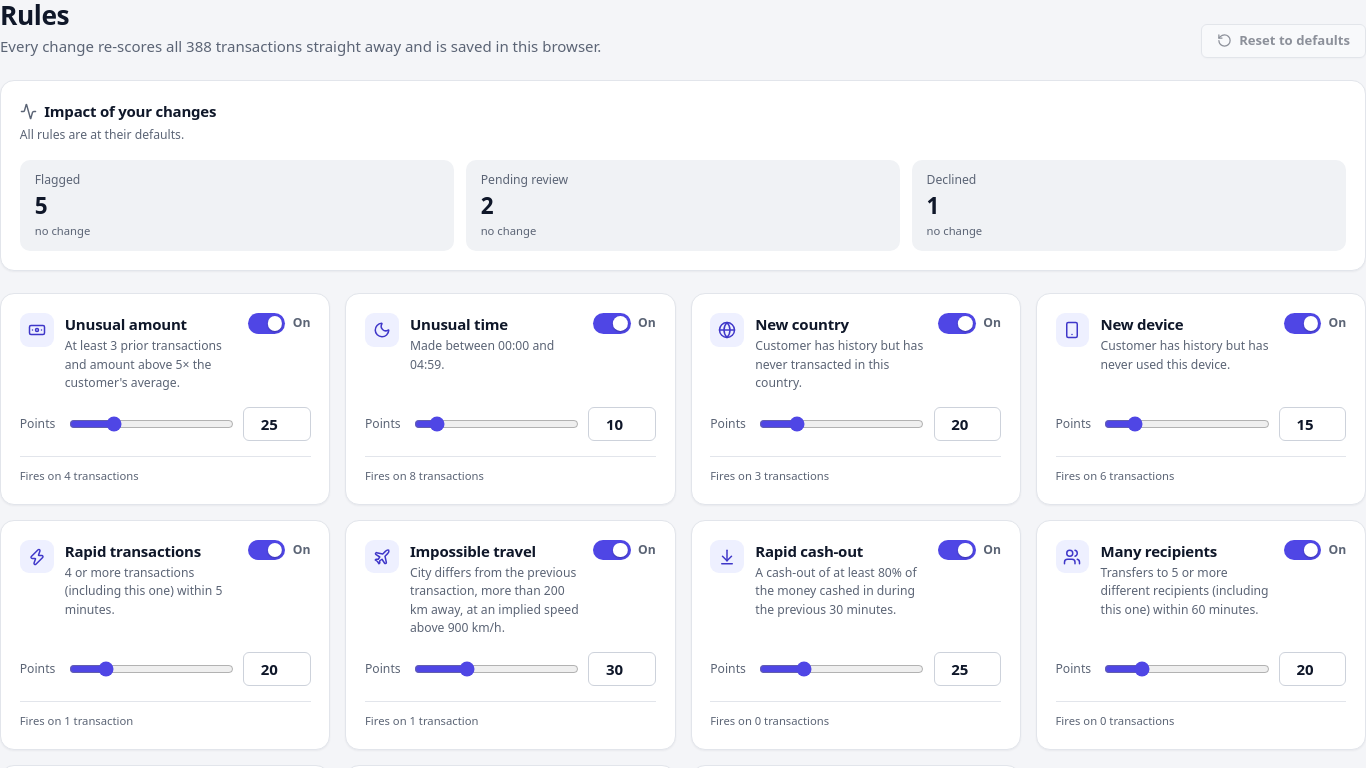
Test: Rules page › typing points re-scores; blanks are ignored and out-of-range values are clamped
The width and height of the screenshot is (1366, 768).
Clear the number field labelled "Points" below "Made between 00:00 and 04:59" at point(622, 424), box [588, 407, 656, 441]
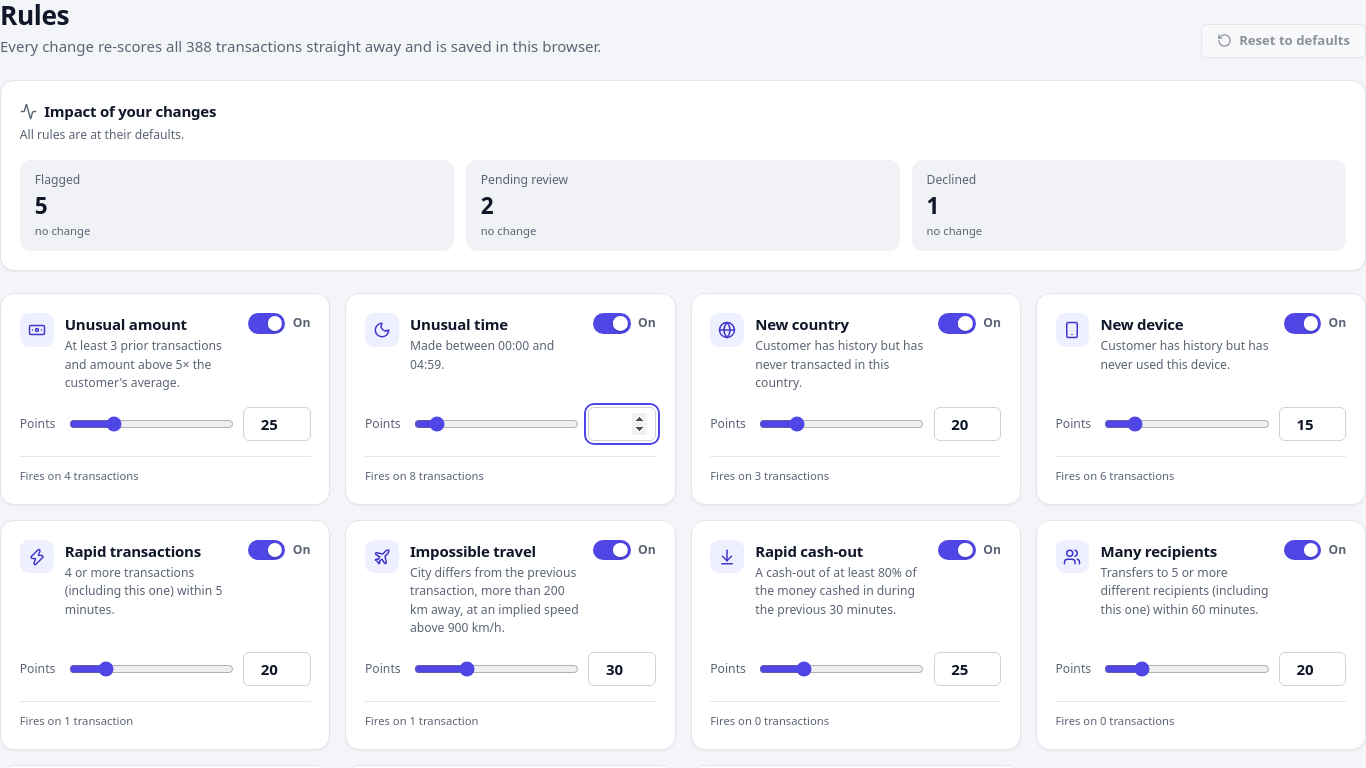
Type "40" into the number field labelled "Points" below "Made between 00:00 and 04:59" at point(622, 424), box [588, 407, 656, 441]
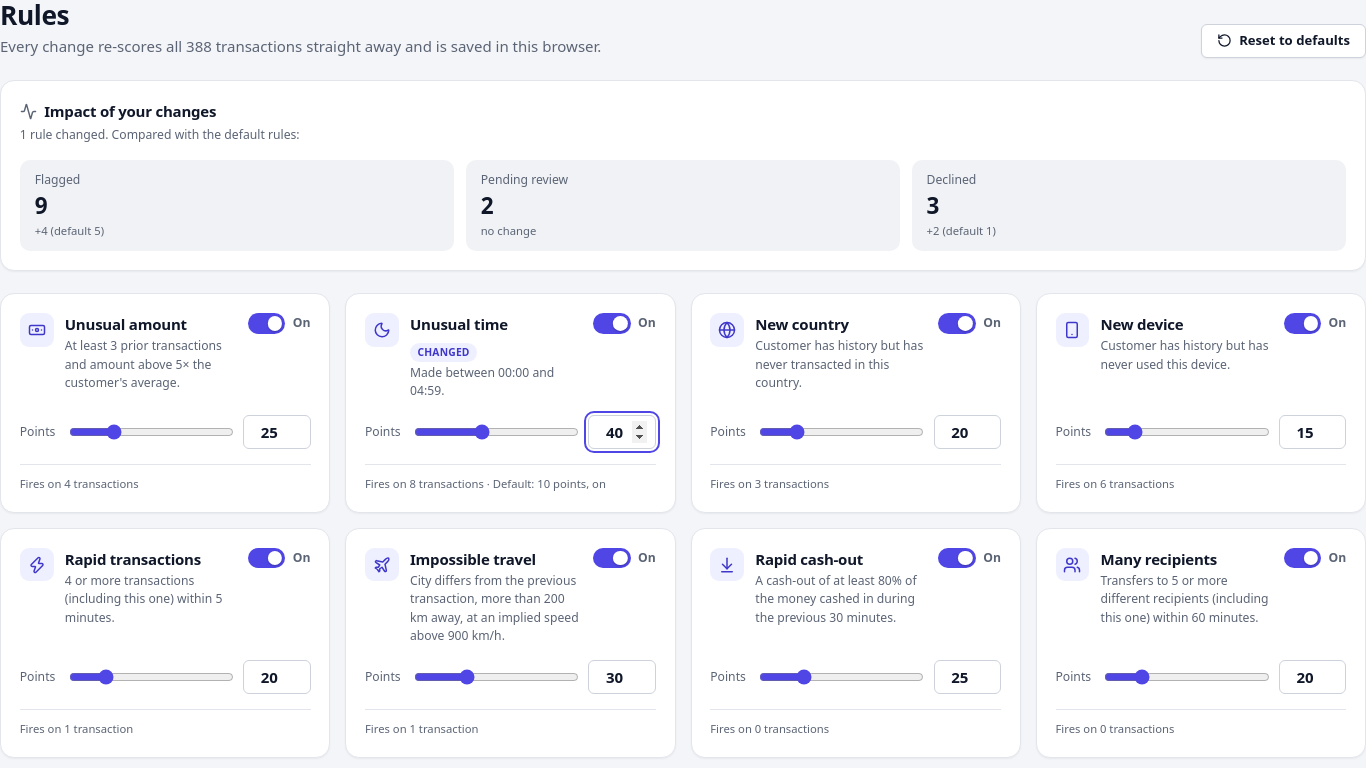
Check: the text "Fires on 8 transactions · Default: 10 points, on" is shown, box [365, 464, 656, 493]
Replace the text in the number field labelled "Points" below "Made between 00:00 and 04:59" with "150" at point(622, 432), box [588, 415, 656, 449]
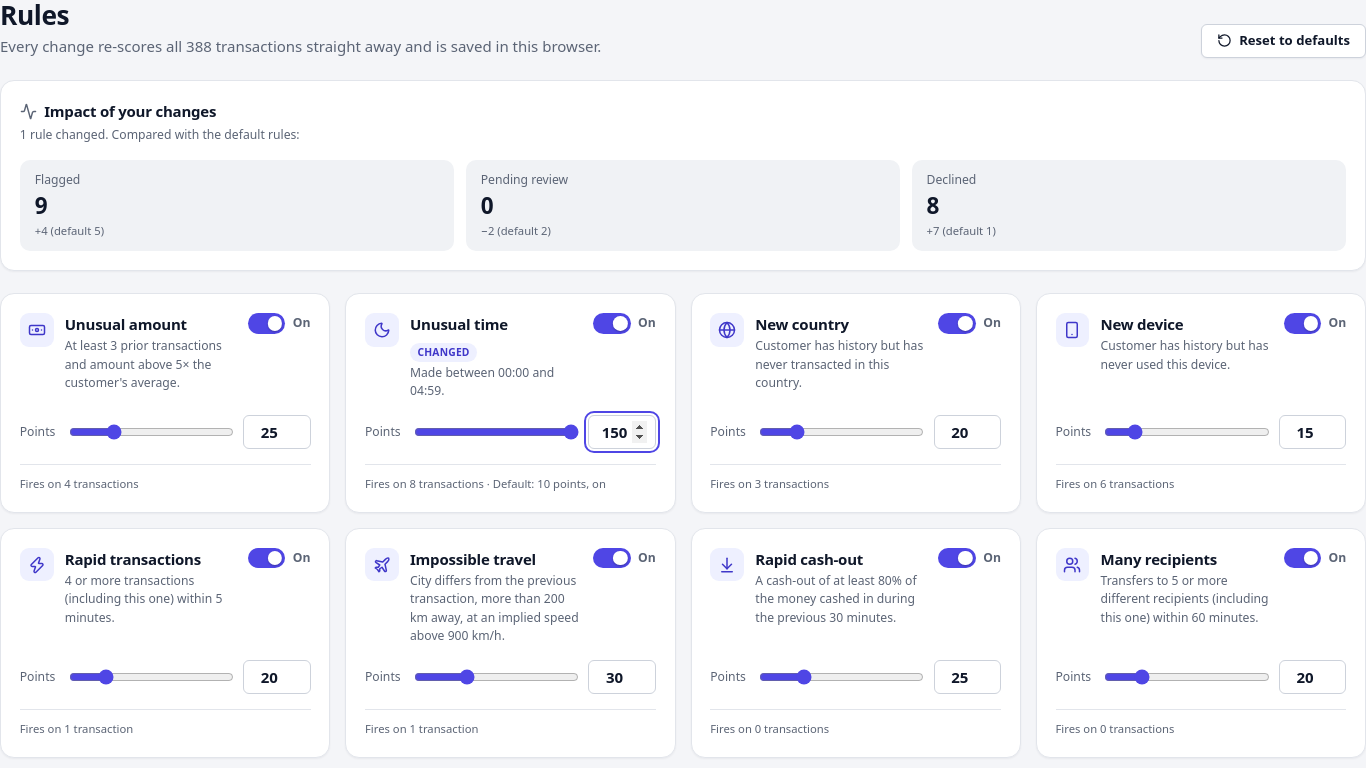
Press Tab
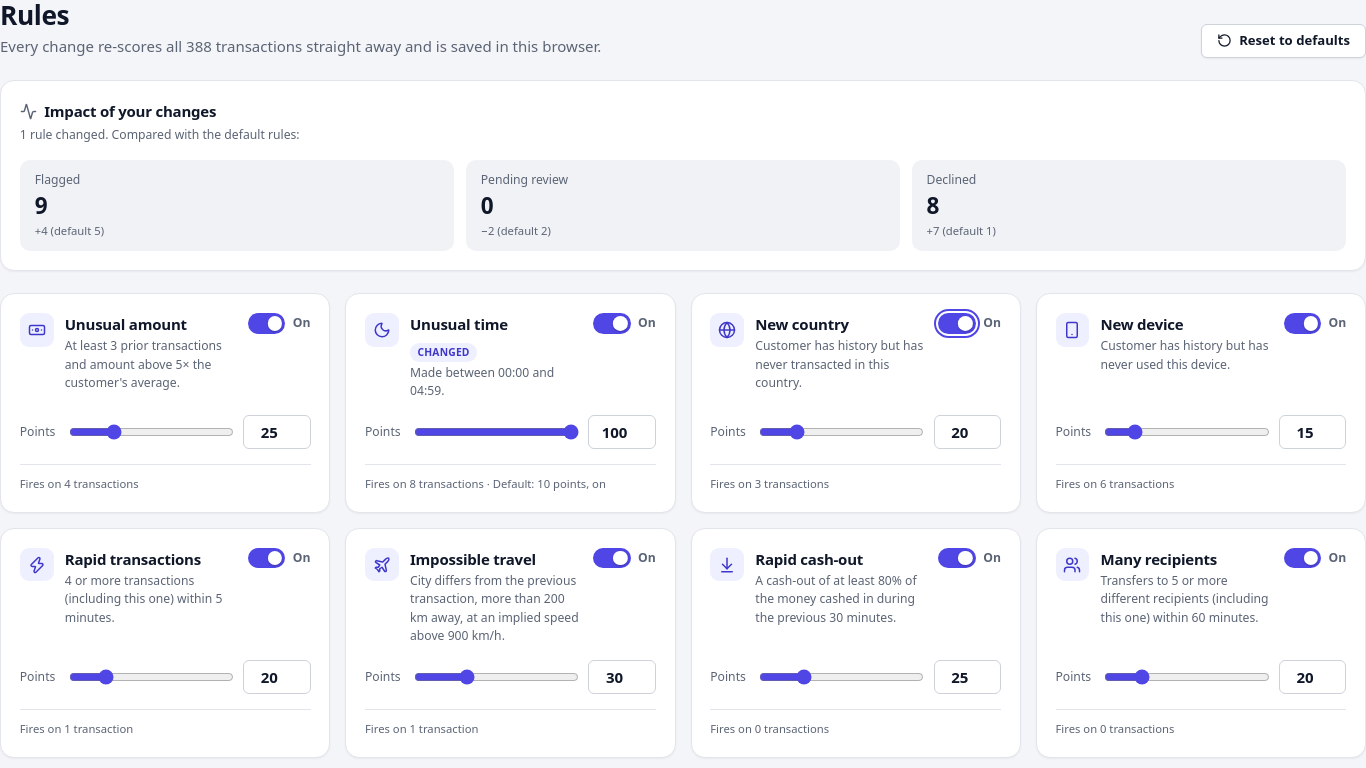
Check: the number field labelled "Points" below "Made between 00:00 and 04:59" holds "100", box [588, 415, 656, 449]
